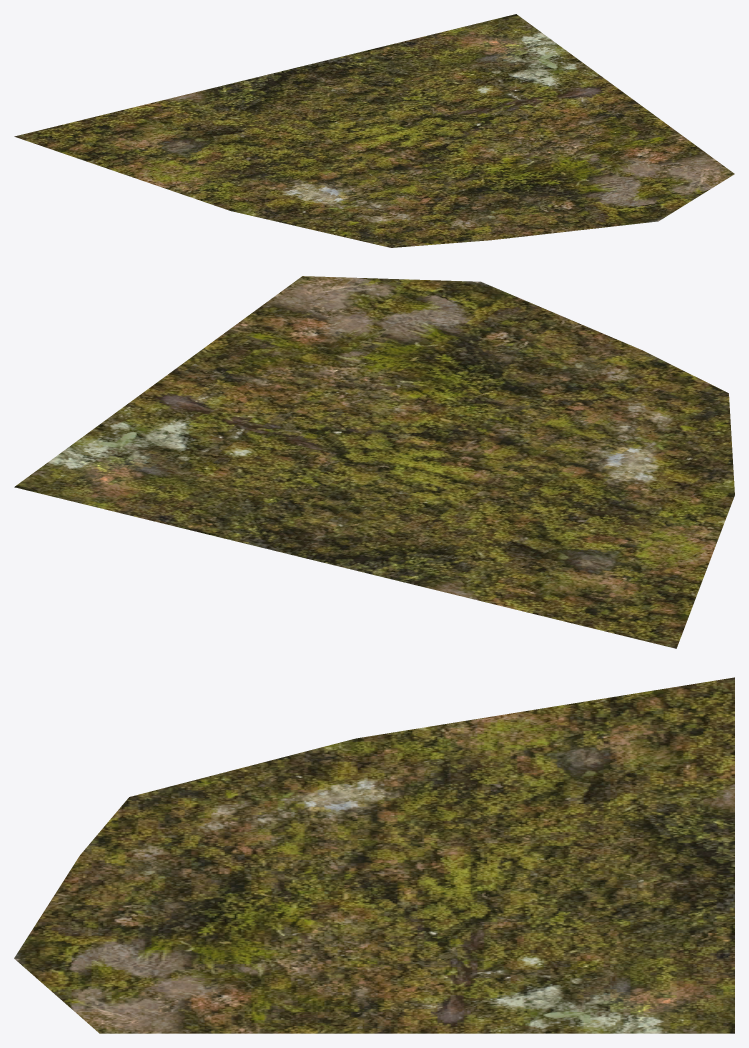
File: moss_float03.dae
3 renders of one model, top to bottom at view 1: azimuth 30°, elevation 25°; view 2: azimuth 150°, elevation 25°; view 3: azimuth 270°, elevation 25°, orthographic. The views are drawn at different scales.
Visible parts, largest first — view 1: 03; view 2: 03; view 3: 03.
Boxes of the visible parts, <box> form: 03: <box>14,14,734,247</box>; 03: <box>14,276,734,648</box>; 03: <box>14,677,734,1033</box>.
Size of the model in its own units: 2 by 0 by 1.71.
